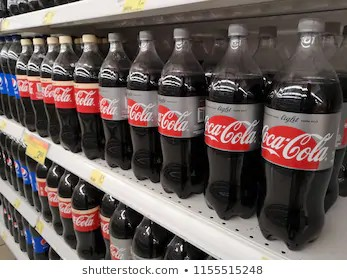coke-bottle-2l: (257, 19, 338, 243), (205, 13, 254, 221), (158, 26, 205, 197), (124, 22, 159, 185), (100, 29, 128, 171), (49, 37, 82, 154), (74, 34, 101, 166)
